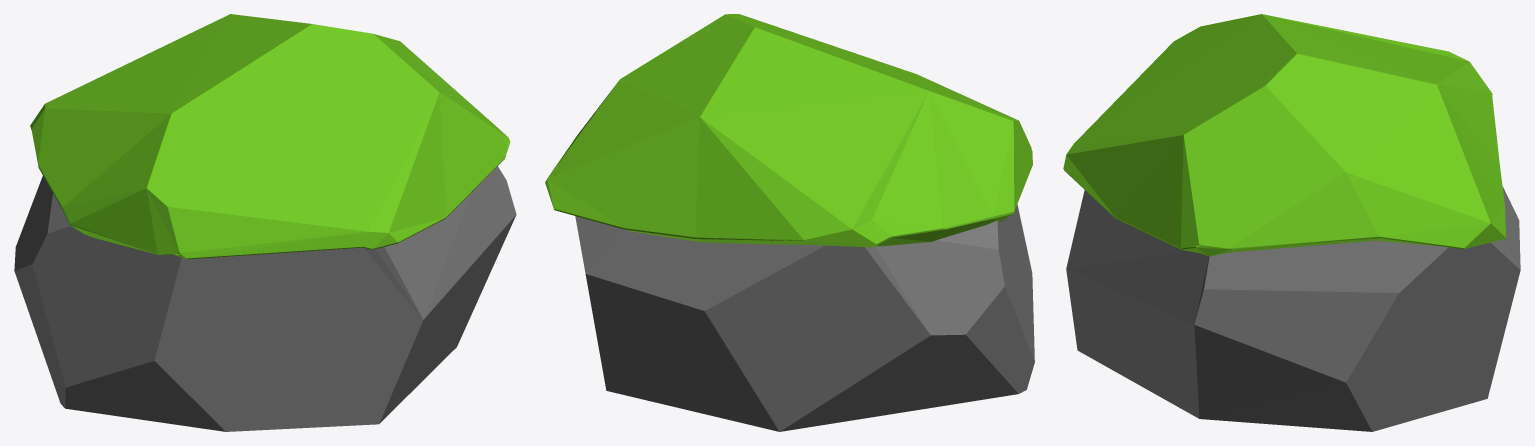
The model's file is MossyStoneRock_Split.fbx.
3 views of the same model, side by side, from view 1: azimuth 30°, elevation 25°; view 2: azimuth 150°, elevation 25°; view 3: azimuth 270°, elevation 25° (orthographic). The views are drawn at different scales.
Parts seen in each view (by area): view 1: MossyStoneRock_PieceA, MossyStoneRock_Moss_L, MossyStoneRock_Moss_R, MossyStoneRock_PieceB; view 2: MossyStoneRock_PieceA, MossyStoneRock_Moss_L, MossyStoneRock_Moss_R, MossyStoneRock_PieceB; view 3: MossyStoneRock_PieceB, MossyStoneRock_Moss_R, MossyStoneRock_Moss_L.
Boxes of the visible parts, bbox=[...] form: MossyStoneRock_PieceA: bbox=[14, 176, 357, 431]; MossyStoneRock_Moss_L: bbox=[30, 38, 364, 259]; MossyStoneRock_Moss_R: bbox=[181, 14, 510, 249]; MossyStoneRock_PieceB: bbox=[350, 166, 516, 425]; MossyStoneRock_PieceA: bbox=[704, 204, 1034, 431]; MossyStoneRock_Moss_L: bbox=[714, 50, 1032, 247]; MossyStoneRock_Moss_R: bbox=[545, 14, 918, 242]; MossyStoneRock_PieceB: bbox=[575, 216, 723, 417]; MossyStoneRock_PieceB: bbox=[1066, 190, 1520, 431]; MossyStoneRock_Moss_R: bbox=[1063, 39, 1506, 256]; MossyStoneRock_Moss_L: bbox=[1078, 14, 1498, 151].
Bounding box in the file's own units: 6.65 × 4.71 × 6.16.
